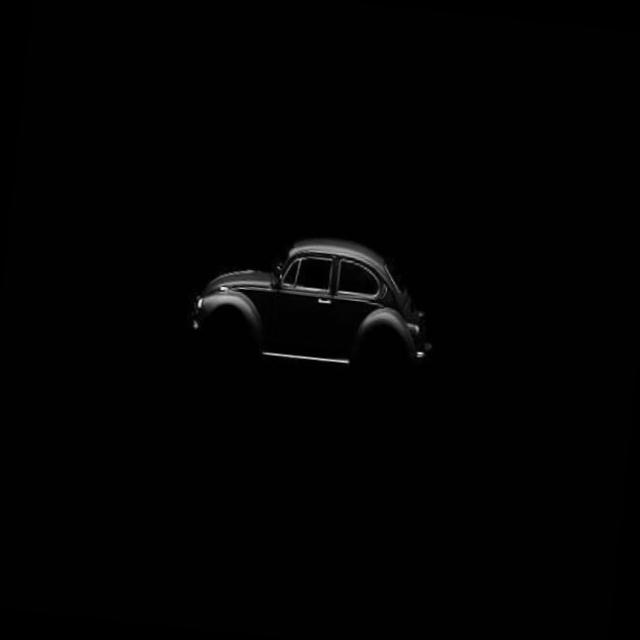car: (184, 226, 444, 394)
